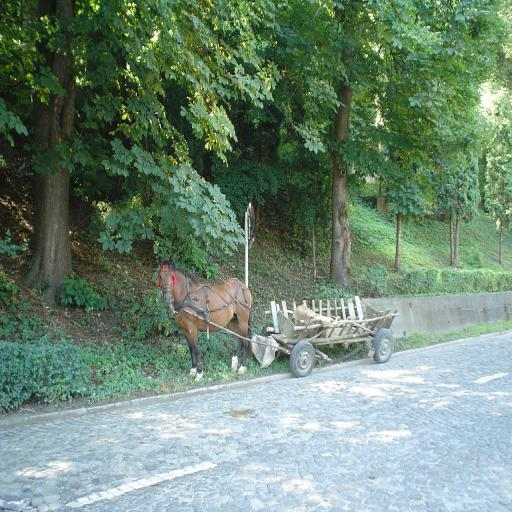Horse: (158, 254, 252, 381)
